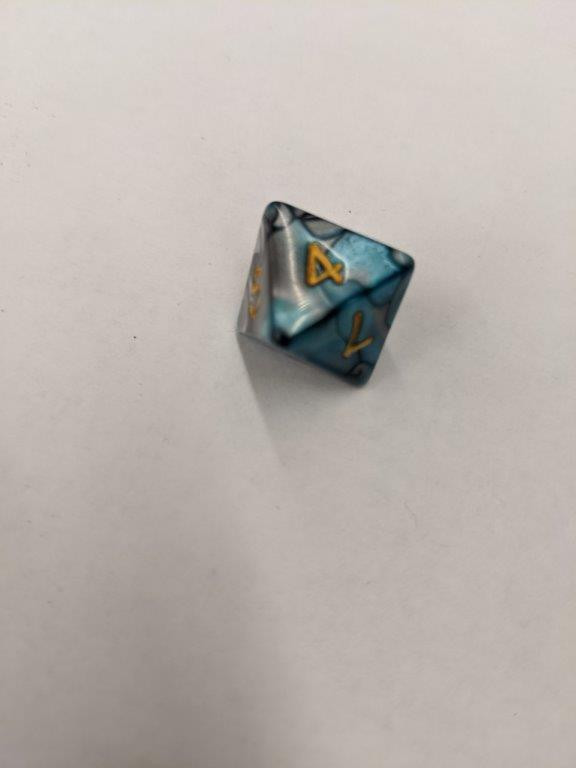d8-4: (236, 198, 418, 389)
